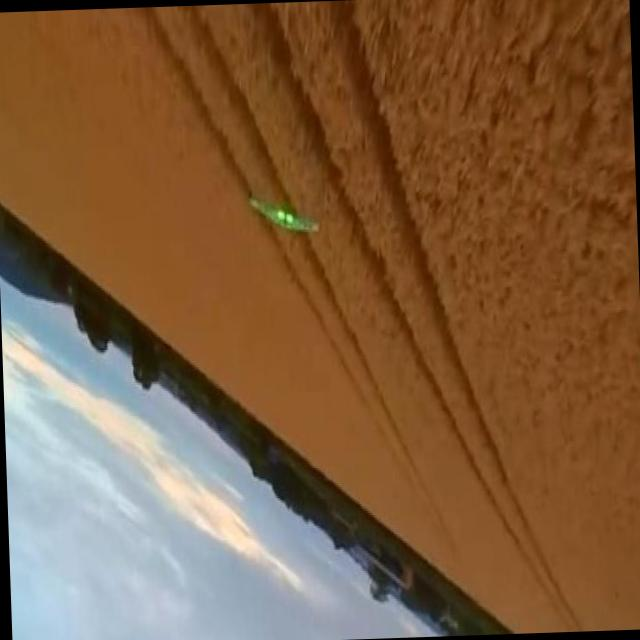UAV: (217, 142, 294, 235)
